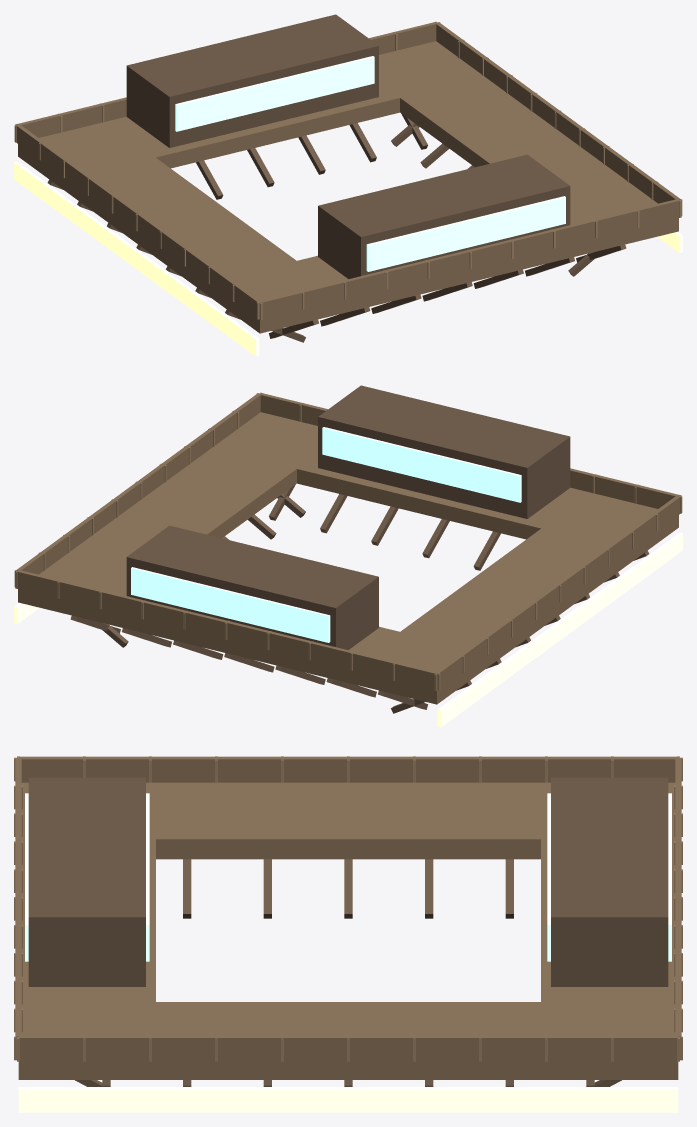
File: 06_second_floor.glb
The picture shows the model from 3 angles, top to bottom: view 1: azimuth 30°, elevation 25°; view 2: azimuth 150°, elevation 25°; view 3: azimuth 270°, elevation 25°; orthographic projection. The views are drawn at different scales.
Parts seen in each view (by area): view 1: second_floor_iron, second_floor_irondark, second_floor_glass_nocol, second_floor_lamp_nocol, second_floor_ironlight_nocol; view 2: second_floor_iron, second_floor_irondark, second_floor_glass_nocol, second_floor_lamp_nocol, second_floor_ironlight_nocol; view 3: second_floor_iron, second_floor_irondark, second_floor_lamp_nocol, second_floor_ironlight_nocol, second_floor_glass_nocol.
Boxes of the visible parts, x1,y1,x2,y2 form: second_floor_iron: (16,22,680,333); second_floor_irondark: (47,14,626,342); second_floor_glass_nocol: (175,56,565,271); second_floor_lamp_nocol: (14,161,682,356); second_floor_ironlight_nocol: (14,21,682,319); second_floor_iron: (16,393,680,704); second_floor_irondark: (70,385,649,713); second_floor_glass_nocol: (131,427,521,642); second_floor_lamp_nocol: (14,532,682,727); second_floor_ironlight_nocol: (14,392,682,690); second_floor_iron: (15,756,681,1079); second_floor_irondark: (28,777,668,1086); second_floor_lamp_nocol: (18,1087,678,1112); second_floor_ironlight_nocol: (14,756,682,1061); second_floor_glass_nocol: (25,793,671,961).
Bounding box in the file's own units: 36.7 × 9.69 × 36.5.
